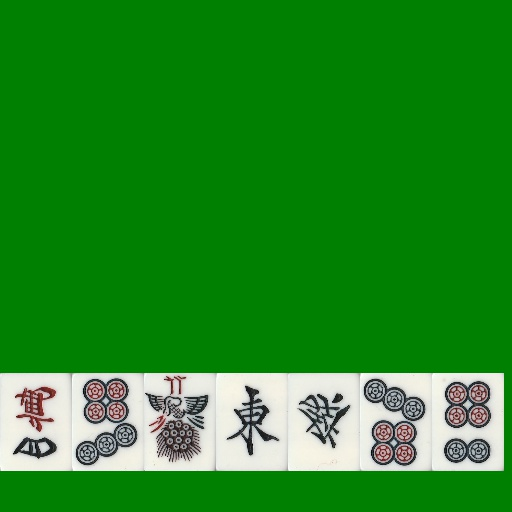1s: (144, 373, 216, 471)
4m: (0, 373, 72, 471)
6p: (432, 373, 504, 471)
7p: (72, 373, 144, 471), (360, 373, 432, 471)
east: (216, 373, 288, 471)
hatsu: (288, 373, 360, 471)
